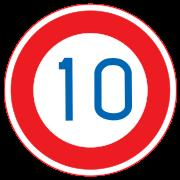Speed Limit -10-: (26, 29, 160, 154)
